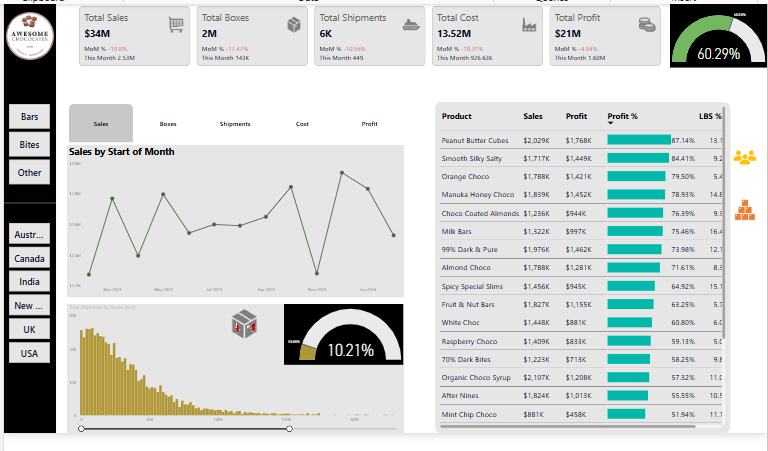

This screenshot's page, from the dashboard's own definition file:
{"tool":"powerbi","page":{"name":"Sales Report","canvas":[1920,1080],"ordinal":0},"visuals":[{"type":"shape","box":[0,0,130.9,1079.5],"z":0},{"type":"cardVisual","title":"KPIs","fields":{"Data":["_Measures.Total Sales","_Measures.Total Boxes","_Measures.Total Shipments","_Measures.Total Cost","_Measures.Total Profit"]},"box":[183.7,0,1474.6,161],"z":1000},{"type":"gauge","fields":{"Y":["_Measures.Profit %"]},"box":[1675,0,245,160],"z":2000},{"type":"image","title":"Company Logo","box":[0,0,130.9,161],"z":3000},{"type":"lineChart","fields":{"Y":["_Measures.Total Sales"],"Category":["calendar.Start of Month"]},"box":[157.5,355,847.5,382.5],"z":4000},{"type":"advancedSlicerVisual","fields":{"Values":["Measure Selector.Measure Selector"]},"box":[157.5,247.5,847.5,107.5],"z":5000},{"type":"columnChart","fields":{"Category":["shipments.Boxes (bins)"],"Y":["_Measures.Total Shipments"]},"box":[157.5,755,847.5,325],"z":6000},{"type":"gauge","fields":{"Y":["_Measures.LBS %"]},"box":[705,755,300,152.5],"z":7000},{"type":"image","title":"Lbs Icon","box":[535,755,137.5,100],"z":8000},{"type":"tableEx","title":"People Table","fields":{"Values":["people.Picture","people.Sales person","_Measures.Total Sales","_Measures.Total Profit","_Measures.Profit %","_Measures.LBS %","_Measures.Profit Target Indicator"]},"box":[1035,247.5,762.5,832.5],"z":9000},{"type":"image","title":"People Icon","box":[1827.5,335,75,102.5],"z":11000},{"type":"image","title":"Products Icon","box":[1827.5,460,75,115],"z":12000},{"type":"advancedSlicerVisual","fields":{"Values":["products.Category"]},"box":[7.5,246.6,113.2,213.9],"z":13000},{"type":"advancedSlicerVisual","fields":{"Values":["locations.Geo"]},"box":[7.5,546.1,113.2,362.4],"z":14000},{"type":"shape","box":[0,460.5,130.9,80.5],"z":15000}]}

Visuals, with their boxes on the page's 1920x1080 design canvas (x1, y1, x2, y2). These are canvas units, not pixel positions in the 768x451 screenshot, which may show the page scaled, cropped or inside an application window:
shape: [0,0,131,1080]
"KPIs" cardVisual: [184,0,1658,161]
gauge - _Measures.Profit %: [1675,0,1920,160]
"Company Logo" image: [0,0,131,161]
lineChart - _Measures.Total Sales x calendar.Start of Month: [158,355,1005,738]
advancedSlicerVisual - Measure Selector.Measure Selector: [158,248,1005,355]
columnChart - shipments.Boxes (bins) x _Measures.Total Shipments: [158,755,1005,1080]
gauge - _Measures.LBS %: [705,755,1005,908]
"Lbs Icon" image: [535,755,672,855]
"People Table" tableEx: [1035,248,1798,1080]
"People Icon" image: [1828,335,1902,438]
"Products Icon" image: [1828,460,1902,575]
advancedSlicerVisual - products.Category: [8,247,121,460]
advancedSlicerVisual - locations.Geo: [8,546,121,908]
shape: [0,460,131,541]
